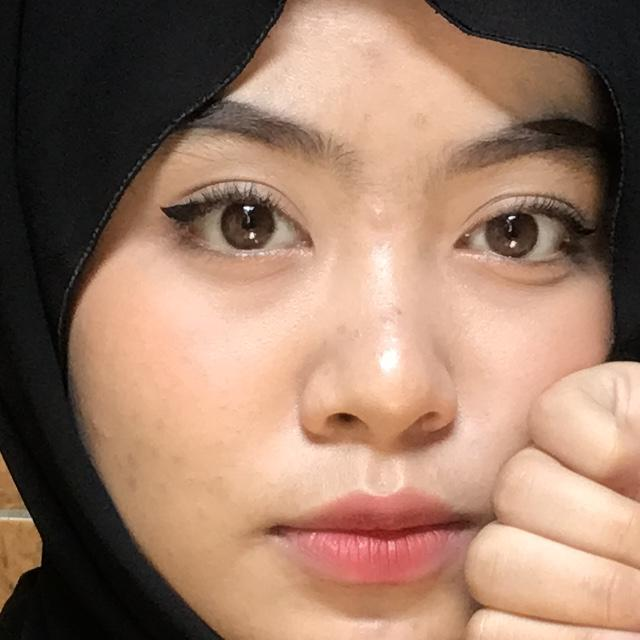sedih: (330, 266, 640, 640)
